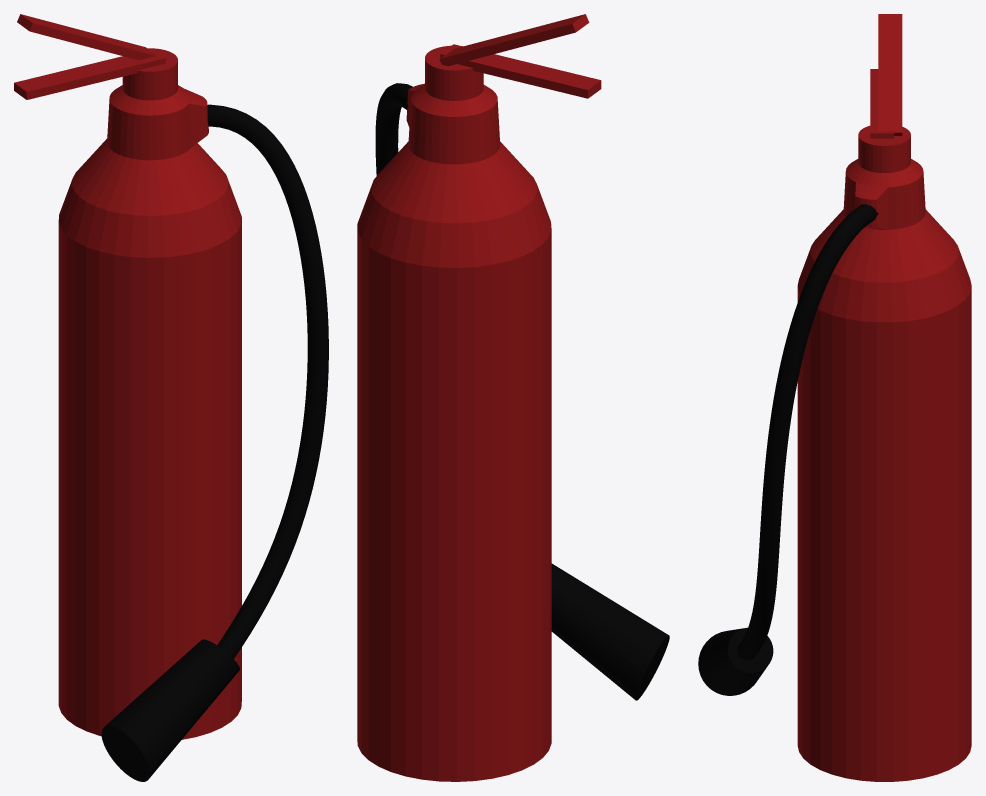
File: FireExtinguisherBig.fbx
3 renders of one model, left to right at view 1: azimuth 30°, elevation 25°; view 2: azimuth 150°, elevation 25°; view 3: azimuth 270°, elevation 25°, orthographic. The views are drawn at different scales.
Parts seen in each view (by area): view 1: FireExtinguisherBig; view 2: FireExtinguisherBig; view 3: FireExtinguisherBig.
Part boxes in pixels (bbox=[...]): FireExtinguisherBig: bbox=[14, 14, 328, 781]; FireExtinguisherBig: bbox=[357, 14, 669, 781]; FireExtinguisherBig: bbox=[698, 14, 971, 781].
Bounding box in the file's own units: 23.68 × 23.37 × 63.71.
